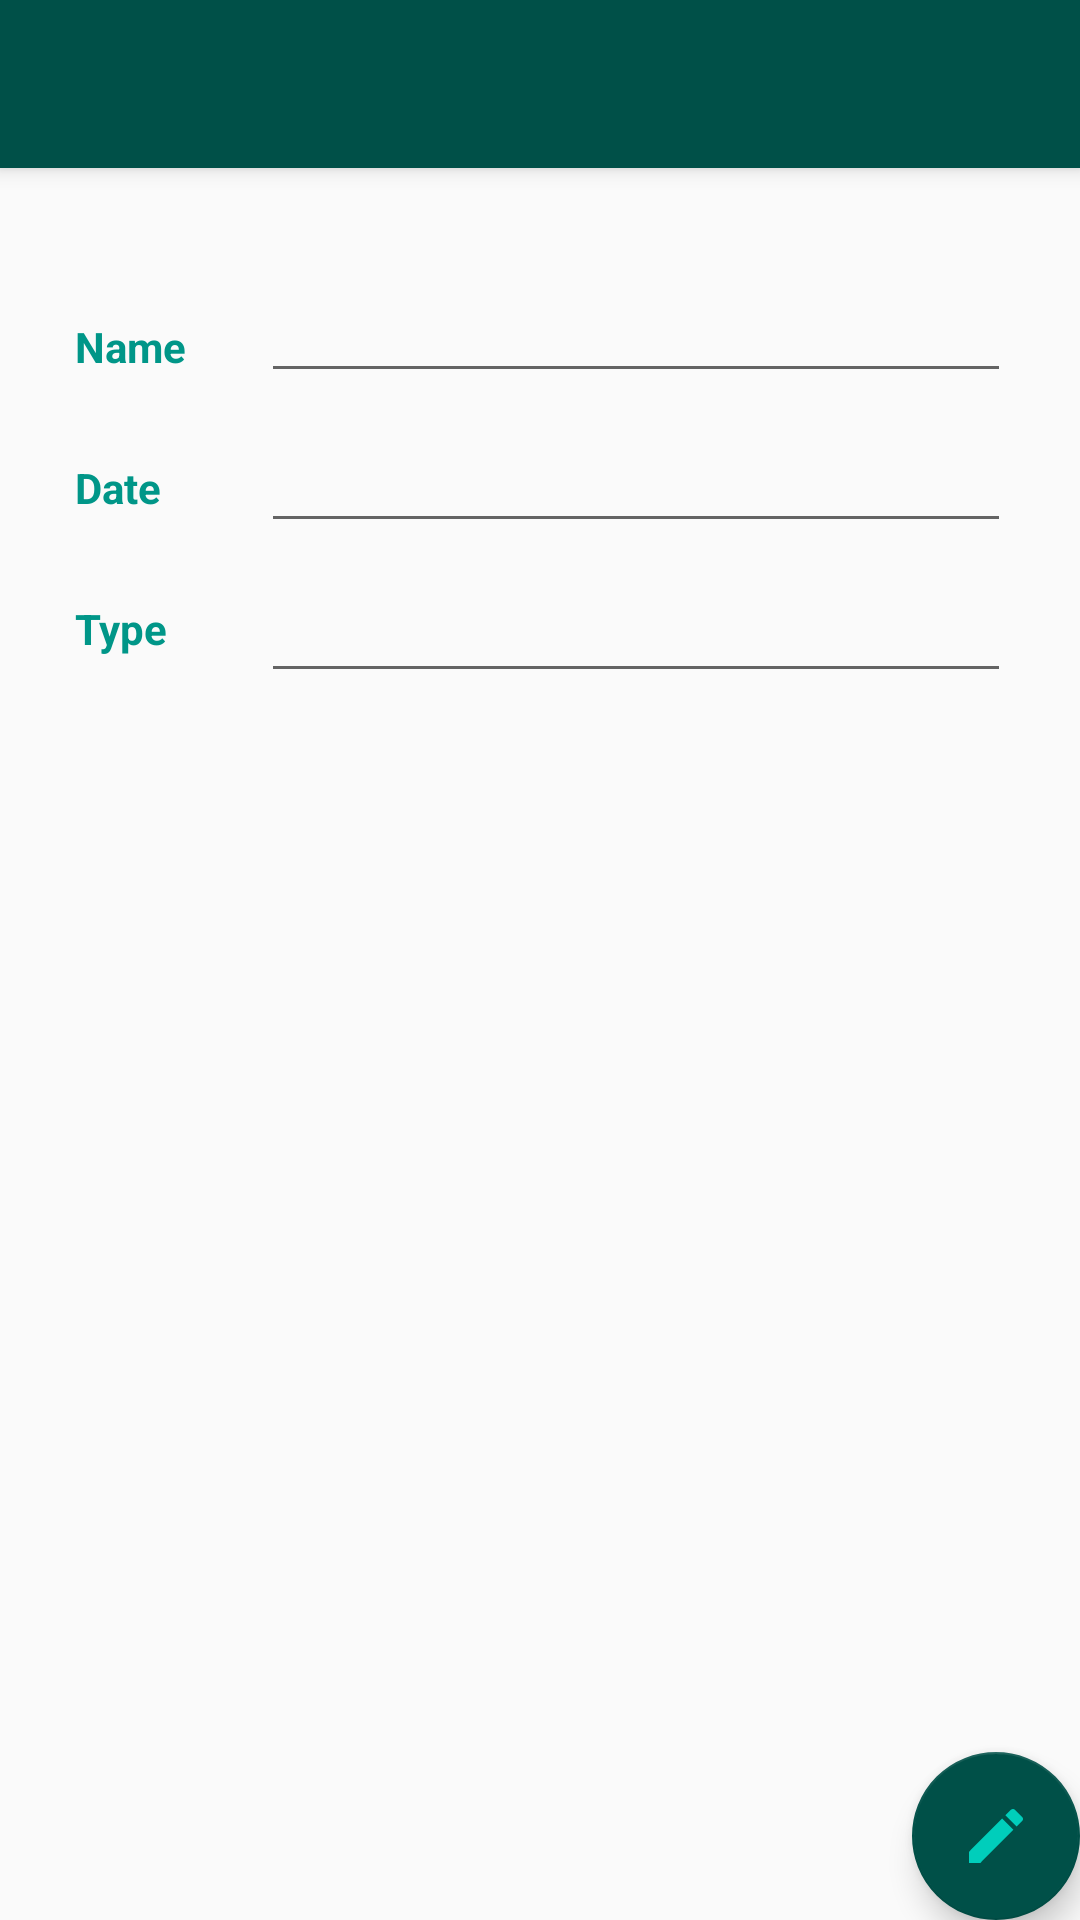

Icons on this 1080×1920 Android screen, each with the point to tap as (x,y):
edit: (996,1836)
